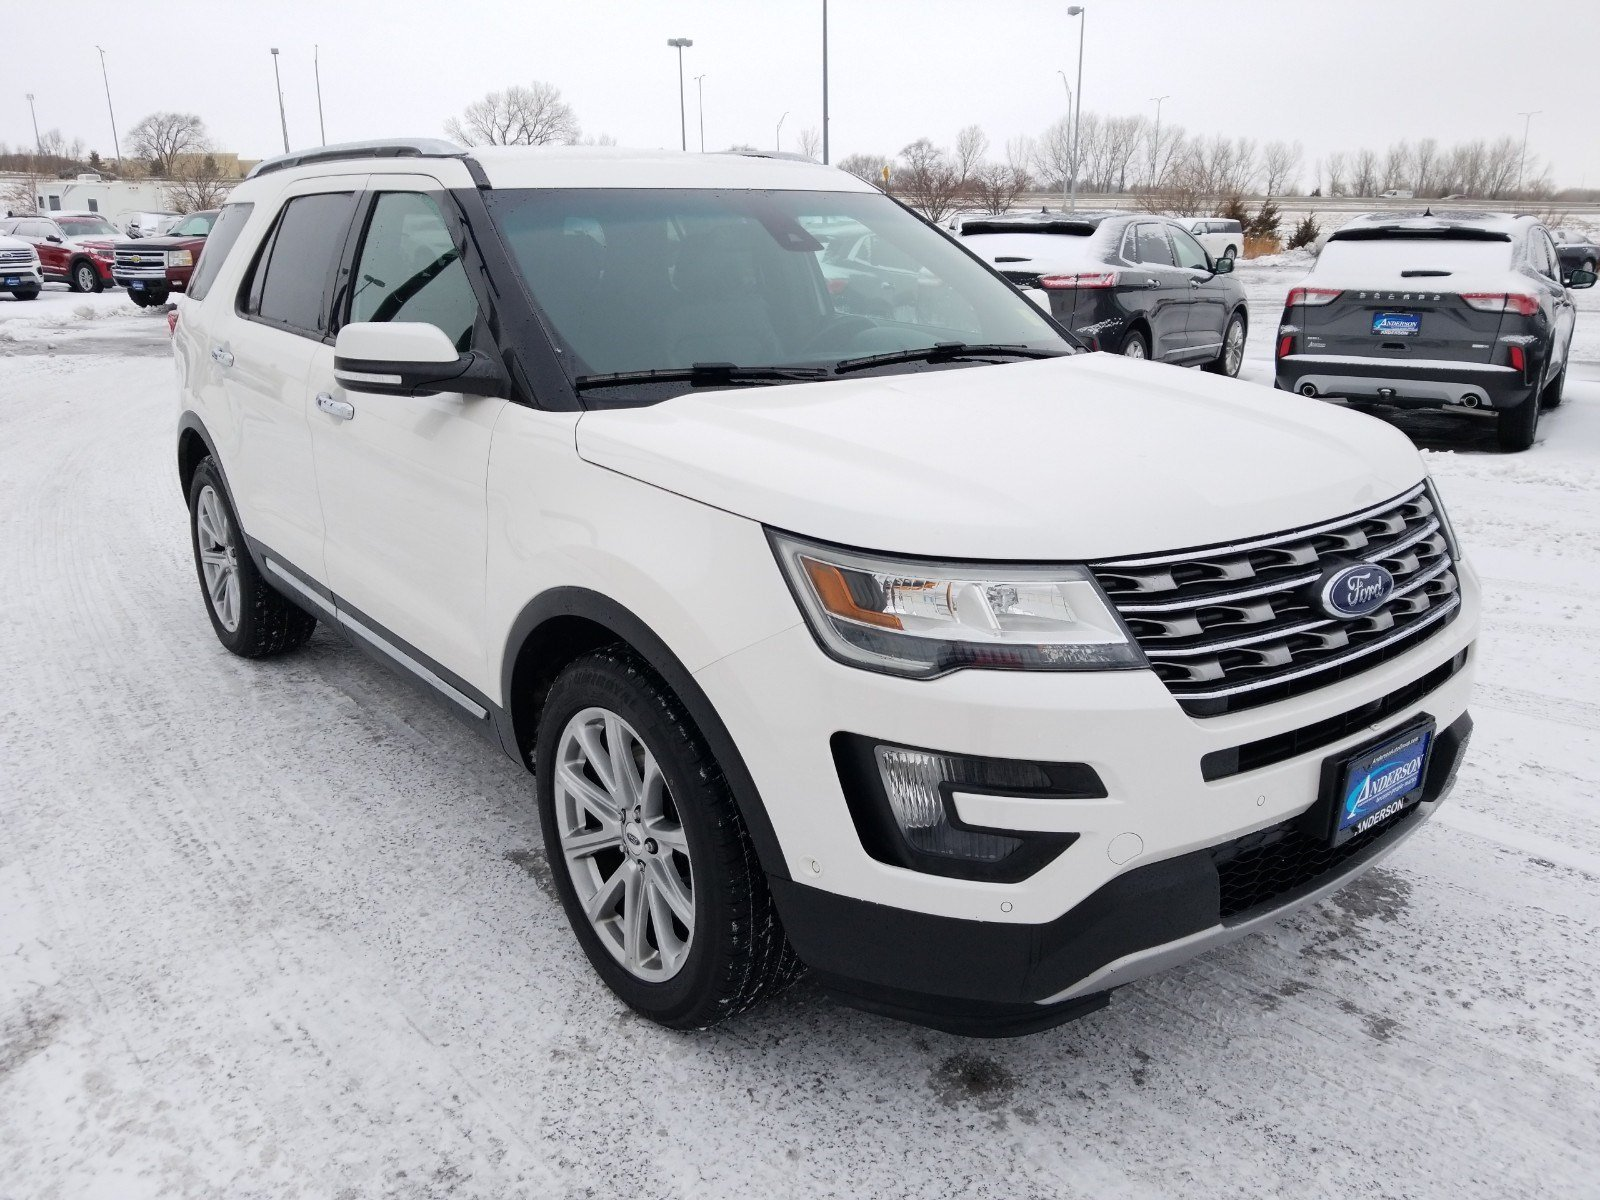Ford Explorer: (163, 132, 1490, 1044)
